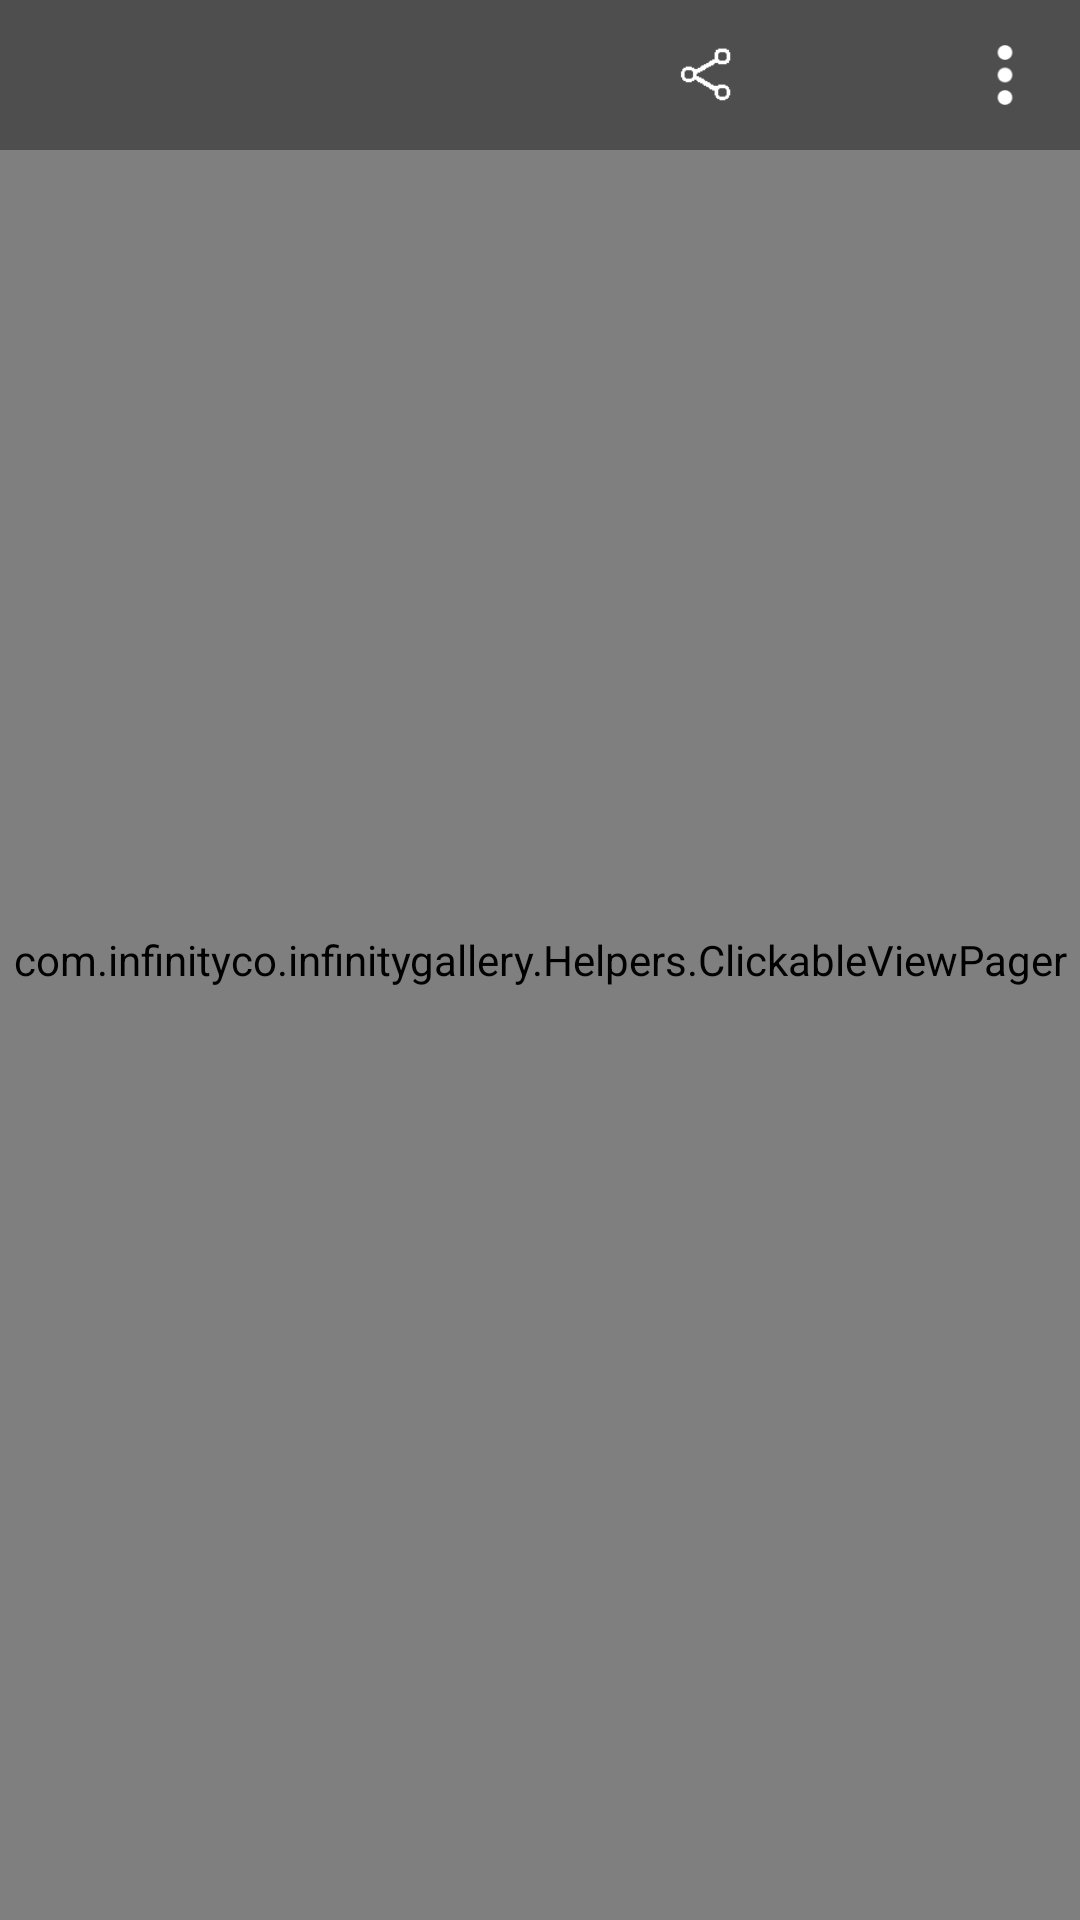

Screen size 1080px x 1920px. Icon name, then its box in pixels as region(x1, y1, x2, y2):
btoptions: region(997, 45, 1013, 105)
btshare: region(681, 48, 731, 101)
